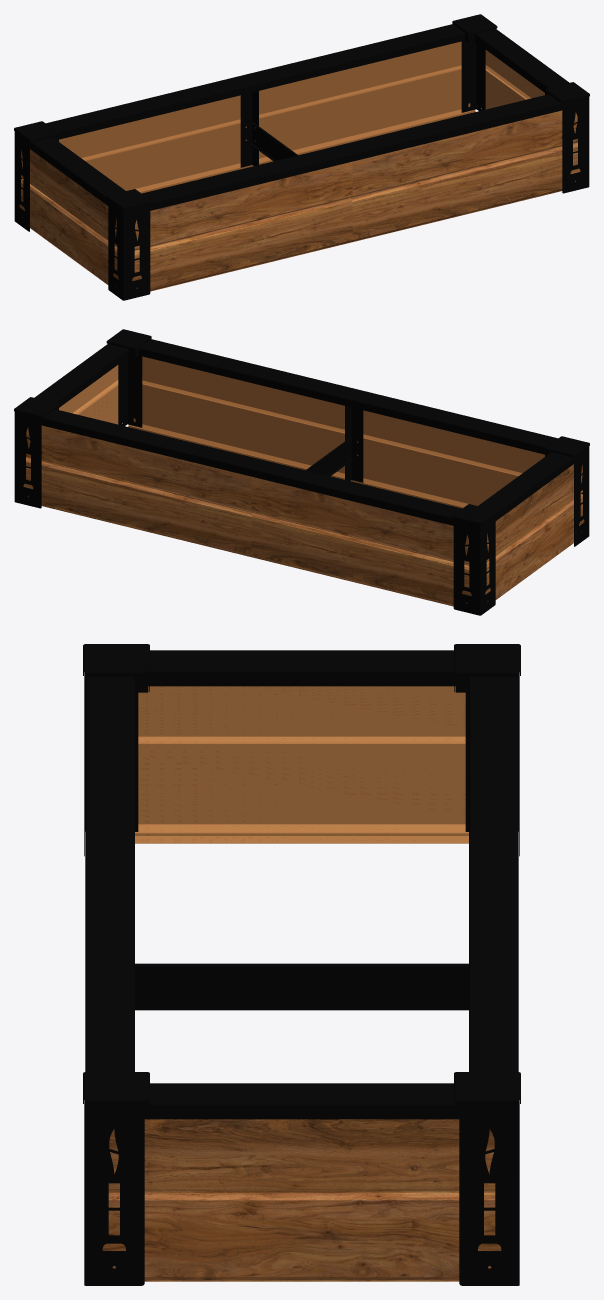
The picture shows the model from 3 angles, top to bottom: view 1: azimuth 30°, elevation 25°; view 2: azimuth 150°, elevation 25°; view 3: azimuth 270°, elevation 25°; orthographic projection. The views are drawn at different scales.
Visible parts, largest first — view 1: обшивка 1800, надгробок, обшивка 1800.001; view 2: обшивка 1800, надгробок, обшивка 1800.001; view 3: надгробок, обшивка 1800.001.
Part boxes in pixels (box(x1,y1,x2,y2)): обшивка 1800: box(59, 41, 580, 291); надгробок: box(14, 14, 589, 300); обшивка 1800.001: box(19, 50, 544, 286); обшивка 1800: box(23, 356, 544, 606); надгробок: box(14, 329, 589, 615); обшивка 1800.001: box(59, 365, 584, 601); надгробок: box(83, 644, 520, 1285); обшивка 1800.001: box(102, 686, 501, 1281).
Bounding box in the file's own units: 1.87 × 0.358 × 0.7585.
3 materials, 2 textured.
